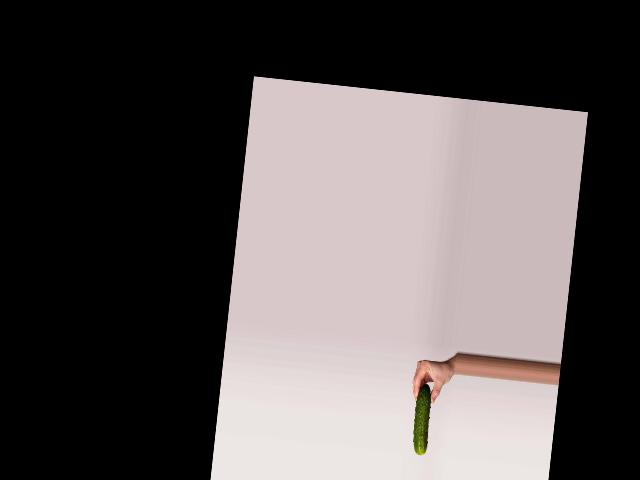cucumber: (411, 383, 432, 455)
